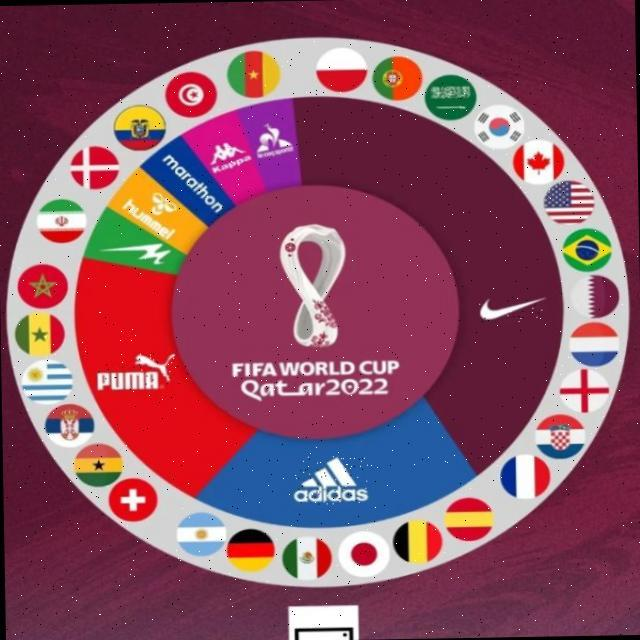Adidas: (295, 456, 369, 505)
Nike: (479, 294, 546, 322)
Puma: (98, 353, 180, 390)
